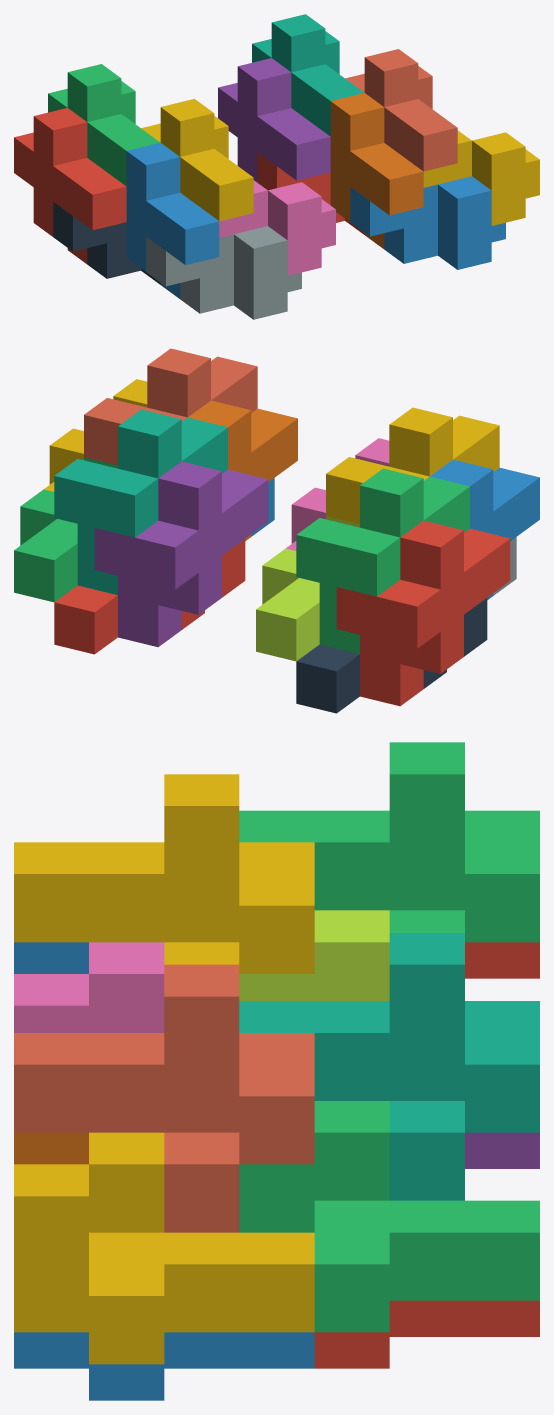
Rendered from tiling.obj.
The picture shows the model from 3 angles, top to bottom: view 1: azimuth 30°, elevation 25°; view 2: azimuth 150°, elevation 25°; view 3: azimuth 270°, elevation 25°; orthographic projection. The views are drawn at different scales.
Parts seen in each view (by area): view 1: copy_1_domain_1, copy_2_domain_6, copy_2_domain_2, copy_1_domain_5, copy_1_domain_2, copy_1_domain_6, copy_1_domain_4, copy_1_domain_8, copy_1_domain_7, copy_1_domain_3, copy_2_domain_8, copy_2_domain_4 (+2 smaller); view 2: copy_1_domain_5, copy_1_domain_1, copy_1_domain_3, copy_1_domain_7, copy_1_domain_8, copy_1_domain_4, copy_2_domain_3, copy_2_domain_7, copy_1_domain_6, copy_1_domain_2, copy_2_domain_1, copy_2_domain_5 (+2 smaller); view 3: copy_2_domain_8, copy_1_domain_8, copy_1_domain_7, copy_1_domain_4, copy_2_domain_7, copy_1_domain_3, copy_2_domain_4, copy_2_domain_6, copy_2_domain_3, copy_2_domain_5, copy_1_domain_1, copy_1_domain_5 (+2 smaller).
Part boxes in pixels (x1,y1,x2,y2): copy_1_domain_1: (14,108,126,263); copy_2_domain_6: (350,176,505,269); copy_2_domain_2: (146,226,301,319); copy_1_domain_5: (218,58,330,182); copy_1_domain_2: (126,142,219,298); copy_1_domain_6: (330,93,423,249); copy_1_domain_4: (141,99,253,221); copy_1_domain_8: (345,49,457,171); copy_1_domain_7: (252,14,364,136); copy_1_domain_3: (48,64,159,186); copy_2_domain_8: (423,130,539,225); copy_2_domain_4: (219,180,335,275); copy_1_domain_5: (94,461,268,647); copy_1_domain_1: (336,520,510,706); copy_1_domain_3: (296,468,469,654); copy_1_domain_7: (54,409,227,595); copy_1_domain_8: (84,348,257,465); copy_1_domain_4: (326,407,499,524); copy_2_domain_3: (256,516,359,661); copy_2_domain_7: (14,457,117,602); copy_1_domain_6: (188,400,297,540); copy_1_domain_2: (430,459,539,599); copy_2_domain_1: (296,598,487,713); copy_2_domain_5: (54,539,245,654); copy_2_domain_8: (14,1132,314,1364); copy_1_domain_8: (14,964,314,1232); copy_1_domain_7: (239,933,539,1200); copy_1_domain_4: (14,774,314,973); copy_2_domain_7: (239,1101,539,1332); copy_1_domain_3: (239,742,539,942); copy_2_domain_4: (14,942,164,1032); copy_2_domain_6: (14,1332,314,1400); copy_2_domain_3: (239,910,389,1000); copy_2_domain_5: (314,1300,539,1368); copy_1_domain_1: (465,942,539,978); copy_1_domain_5: (465,1132,539,1168).
Size of the model in its own units: 12 by 5 by 7.
